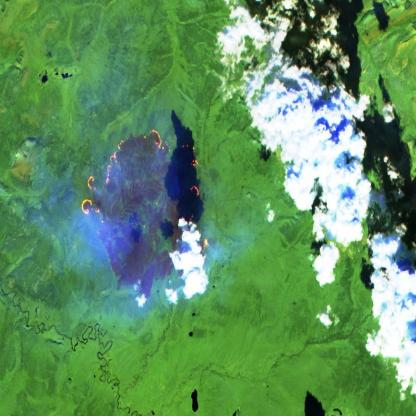fire: (82, 122, 211, 304)
